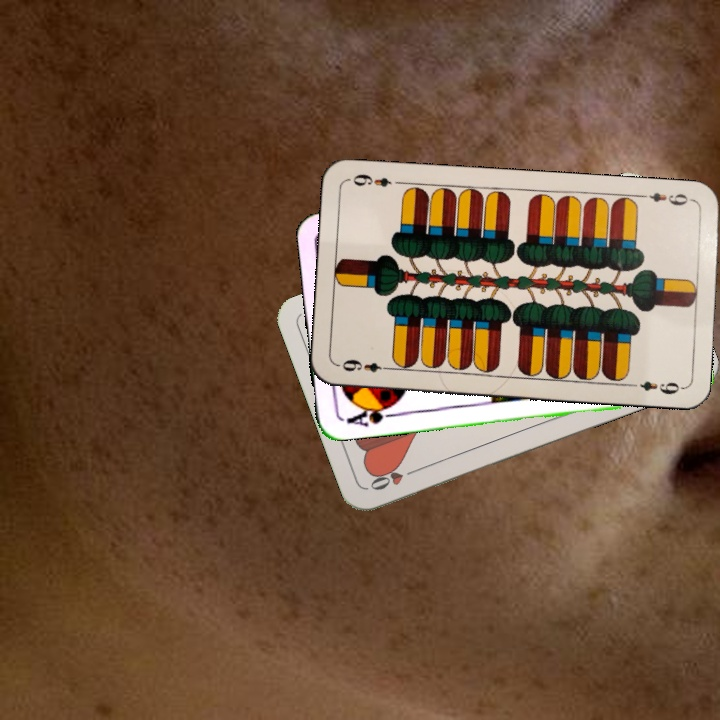E9: (636, 188, 696, 208), (335, 355, 394, 375)
HO: (365, 463, 422, 493)
SA: (342, 399, 400, 429)
